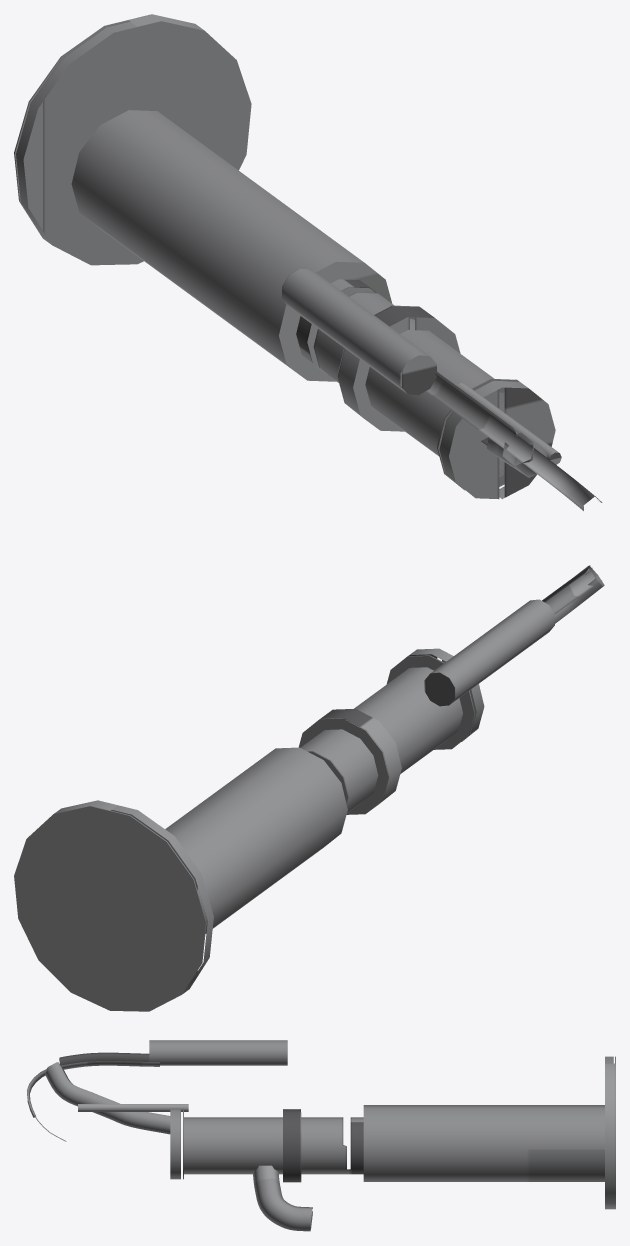
3 views of the same model, one above another, from view 1: azimuth 30°, elevation 25°; view 2: azimuth 150°, elevation 25°; view 3: azimuth 270°, elevation 25° (orthographic). The views are drawn at different scales.
Bounding box in the file's own units: 0.3534 × 0.3478 × 1.31.
